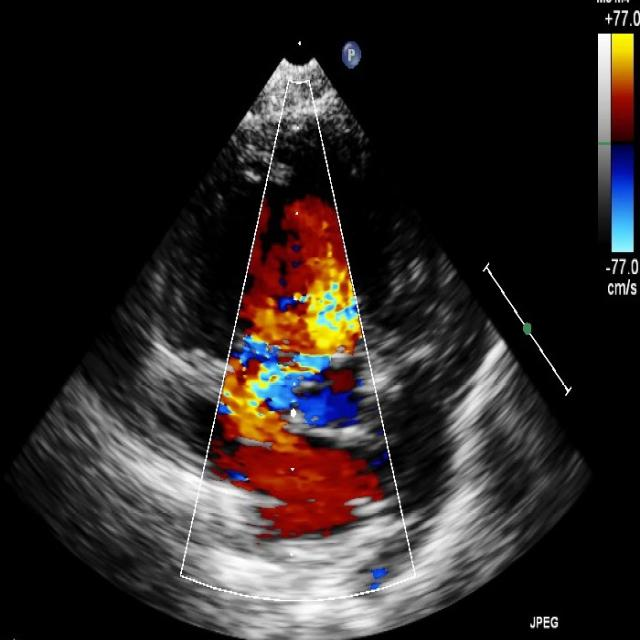ASDType2: (222, 448, 382, 530)
VSDType2: (227, 301, 371, 424)
